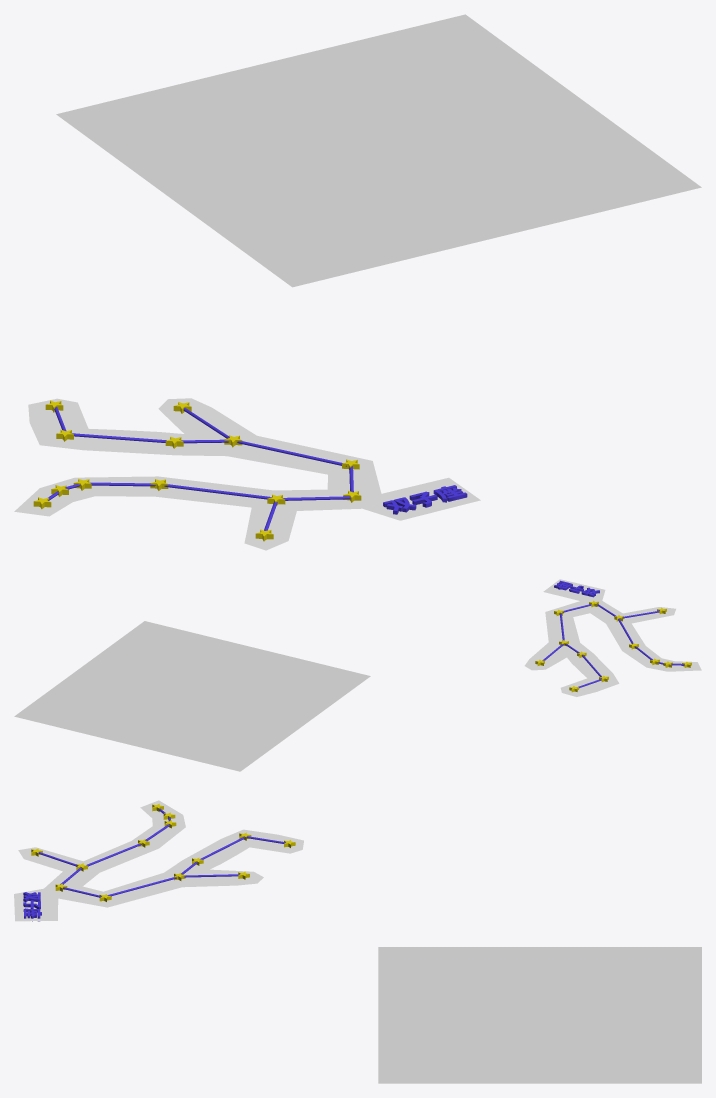
Rendered from hutago.glb.
The picture shows the model from 3 angles, top to bottom: view 1: azimuth 30°, elevation 25°; view 2: azimuth 150°, elevation 25°; view 3: azimuth 270°, elevation 25°; orthographic projection. The views are drawn at different scales.
Parts seen in each view (by area): view 1: 平面, 円.006, テキスト; view 2: 平面, 円.006, テキスト; view 3: 平面, 円.006, テキスト.
Part boxes in pixels (left/top/right/bottom): 平面: left=56, top=14, right=701, bottom=287; 円.006: left=14, top=398, right=480, bottom=550; テキスト: left=383, top=485, right=467, bottom=514; 平面: left=14, top=621, right=370, bottom=771; 円.006: left=524, top=579, right=701, bottom=696; テキスト: left=554, top=580, right=599, bottom=597; 平面: left=378, top=947, right=701, bottom=1083; 円.006: left=14, top=800, right=303, bottom=921; テキスト: left=23, top=892, right=41, bottom=921.
Bounding box in the file's own units: 104 × 1.03 × 106.
